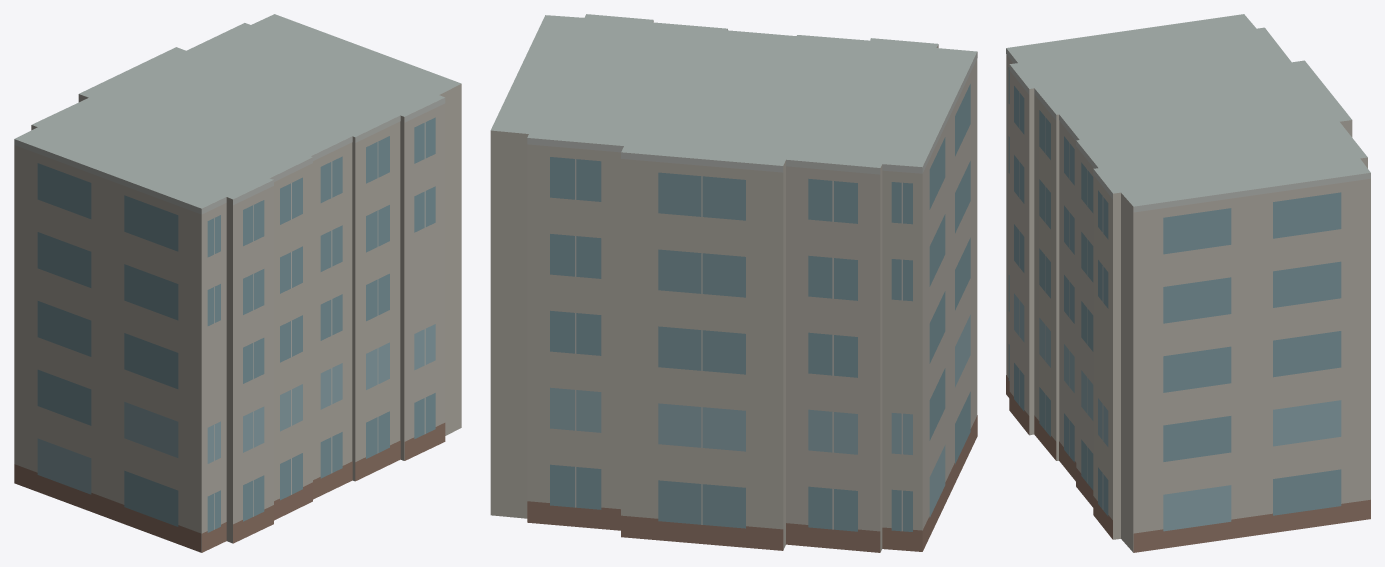
File: survey-upis-32744961.glb
3 renders of one model, left to right at view 1: azimuth 30°, elevation 25°; view 2: azimuth 150°, elevation 25°; view 3: azimuth 270°, elevation 25°, orthographic. The views are drawn at different scales.
Parts seen in each view (by area): view 1: survey-upis-32744961.tmp; view 2: survey-upis-32744961.tmp; view 3: survey-upis-32744961.tmp.
Part boxes in pixels (<box>): survey-upis-32744961.tmp: <box>14,14,461,552</box>; survey-upis-32744961.tmp: <box>490,14,977,552</box>; survey-upis-32744961.tmp: <box>1006,14,1370,552</box>.
Size of the model in its own units: 17.07 by 14.3 by 13.66.
